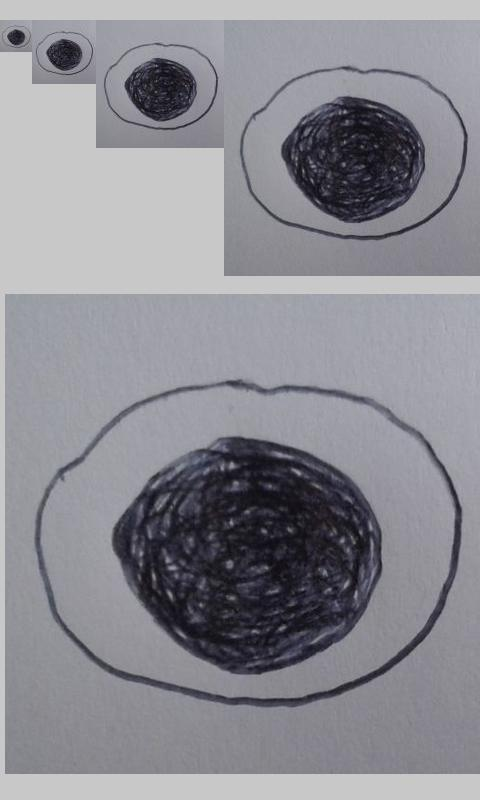radio_button: (32, 376, 465, 711), (239, 64, 469, 242), (103, 42, 220, 131), (35, 30, 94, 76), (1, 24, 31, 49)
